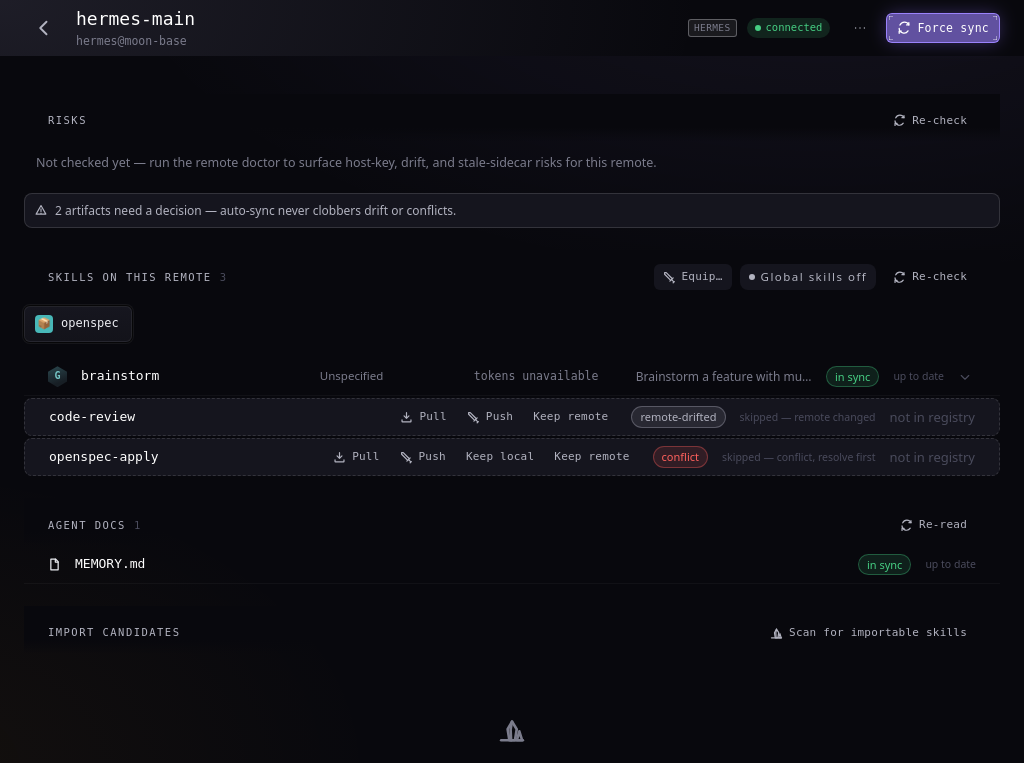
Test: RemotesScreen — detail drift surface › surfaces the remote doctor findings section (filtered to this remote)
Expected: the text "connected" is shown, [766,20,822,36]
Click the 1st button "Re-check" at {"x": 930, "y": 121}, box [884,108,976,134]
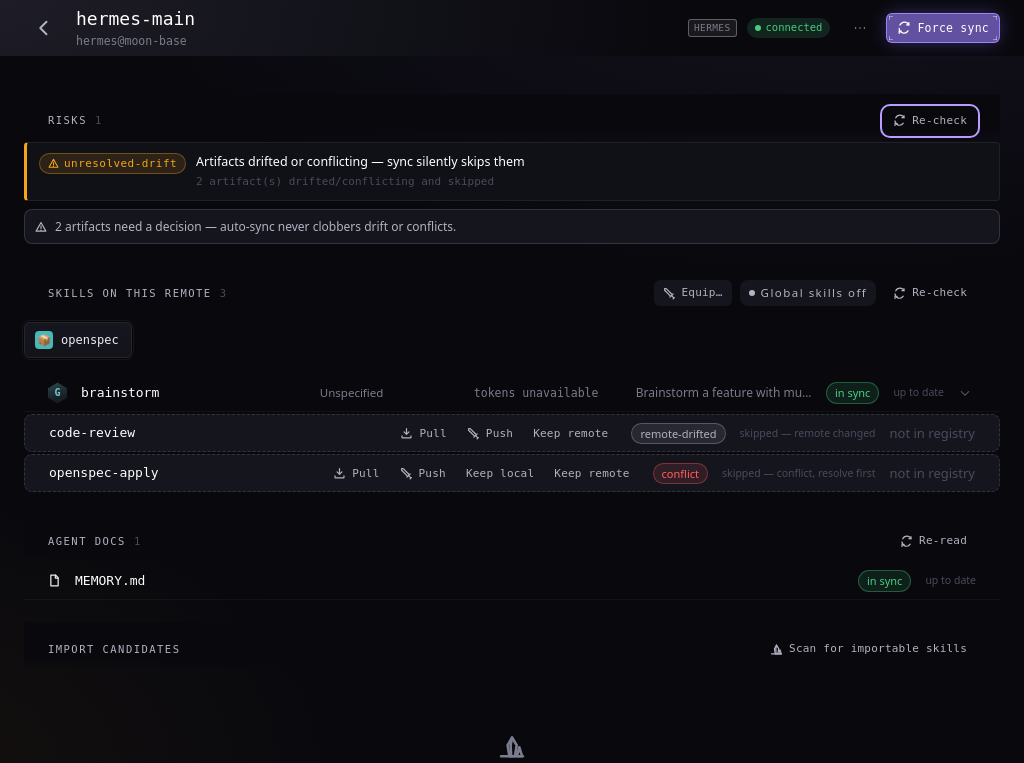
Now the text "unresolved-drift" is shown, box [64,156,177,171]
Now the text "Artifacts drifted or conflicting — sync silently skips them" is shown, box [196,153,525,171]
